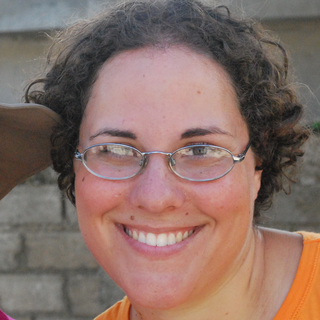eye: (176, 139, 222, 163), (98, 141, 143, 163)
